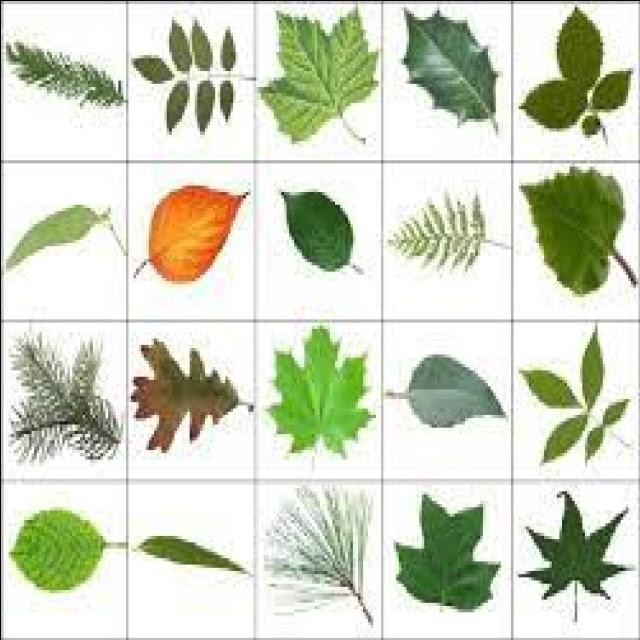leaves: (260, 9, 376, 140), (523, 167, 635, 293), (10, 334, 120, 459), (269, 325, 371, 453), (395, 493, 499, 608), (130, 339, 237, 450), (270, 489, 370, 605), (520, 492, 626, 598), (404, 9, 496, 130), (521, 328, 603, 460), (147, 184, 245, 280), (10, 509, 104, 589), (390, 192, 485, 268), (6, 44, 120, 104), (407, 354, 503, 425), (6, 204, 101, 266), (282, 190, 349, 269), (139, 535, 240, 571), (556, 8, 601, 88), (520, 80, 585, 127), (585, 398, 627, 460), (520, 371, 580, 407), (543, 414, 586, 460), (581, 326, 603, 408), (591, 71, 630, 108), (169, 20, 191, 69), (133, 56, 173, 82), (167, 80, 187, 130), (196, 80, 214, 130), (194, 20, 211, 68), (219, 28, 235, 69), (585, 425, 602, 460), (219, 80, 229, 119), (581, 114, 600, 133)
